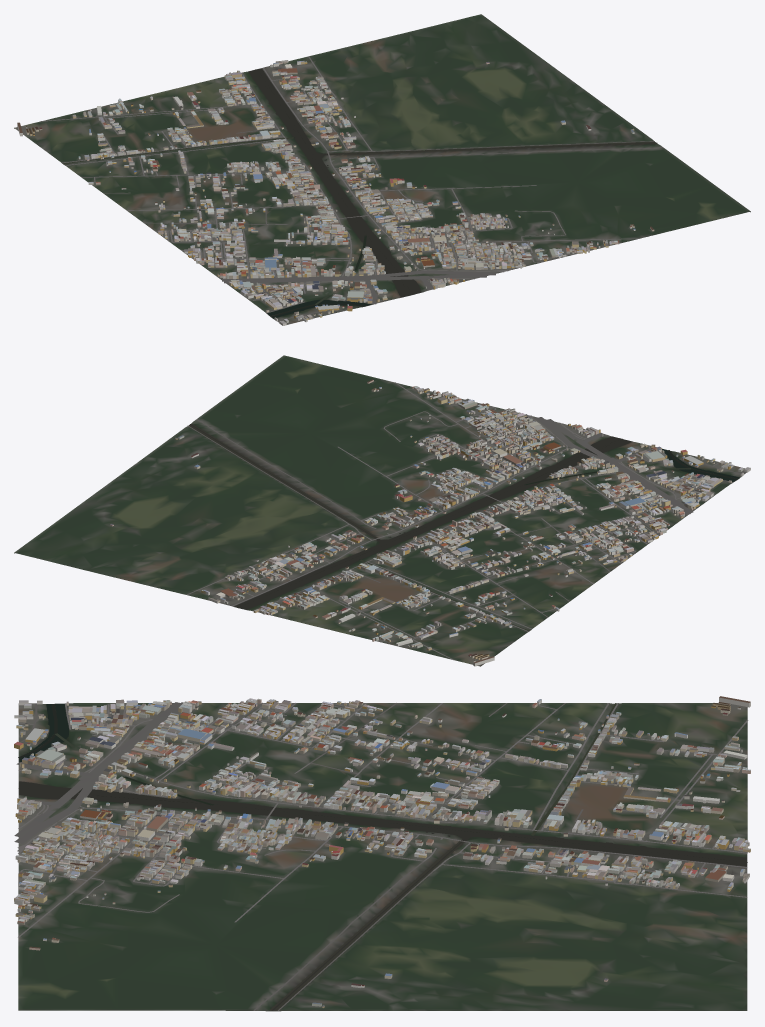
3 views of the same model, one above another, from view 1: azimuth 30°, elevation 25°; view 2: azimuth 150°, elevation 25°; view 3: azimuth 270°, elevation 25° (orthographic). The views are drawn at different scales.
Visible parts, largest first — view 1: ground, buildings, roads, water; view 2: ground, buildings, roads, water; view 3: ground, buildings, roads, water.
Boxes of the visible parts, x1=… form: ground: x1=14, y1=14, x2=750, y2=325; buildings: x1=17, y1=60, x2=654, y2=325; roads: x1=40, y1=56, x2=663, y2=321; water: x1=62, y1=68, x2=657, y2=318; ground: x1=14, y1=355, x2=746, y2=666; buildings: x1=110, y1=379, x2=750, y2=666; roads: x1=186, y1=382, x2=740, y2=660; water: x1=188, y1=423, x2=739, y2=631; ground: x1=18, y1=703, x2=747, y2=1011; buildings: x1=14, y1=696, x2=750, y2=1007; roads: x1=14, y1=702, x2=748, y2=1010; water: x1=18, y1=703, x2=747, y2=1010.
Size of the model in its own units: 1412 by 19.02 by 1416.
